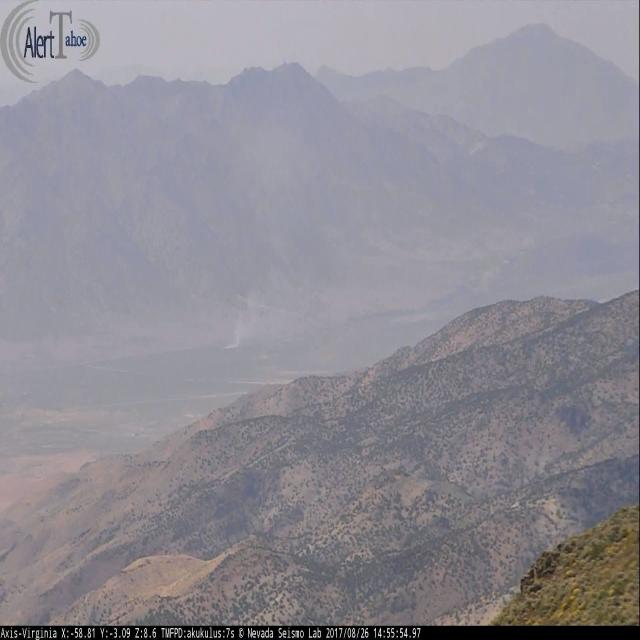smoke: (224, 307, 258, 350)
